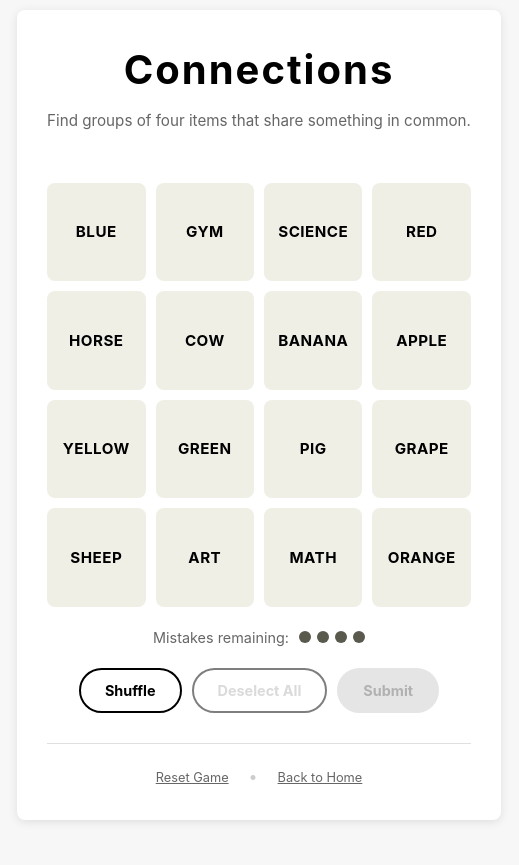
Test case: App › should track mistakes on incorrect answer
The width and height of the screenshot is (519, 865).
// Select 4 words that don't match a category
What coordinates should you click on to do the following:
click the button "Cow"
I would click on:
 (205, 340)
Its box is [156,291,254,390].
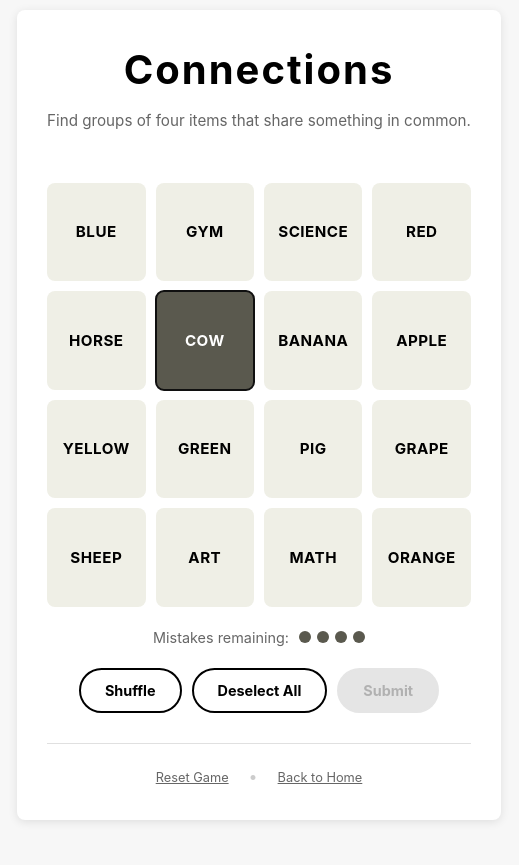
What coordinates should you click on to do the following:
click the button "Red"
I would click on:
 (422, 232)
Its box is [372,183,471,281].
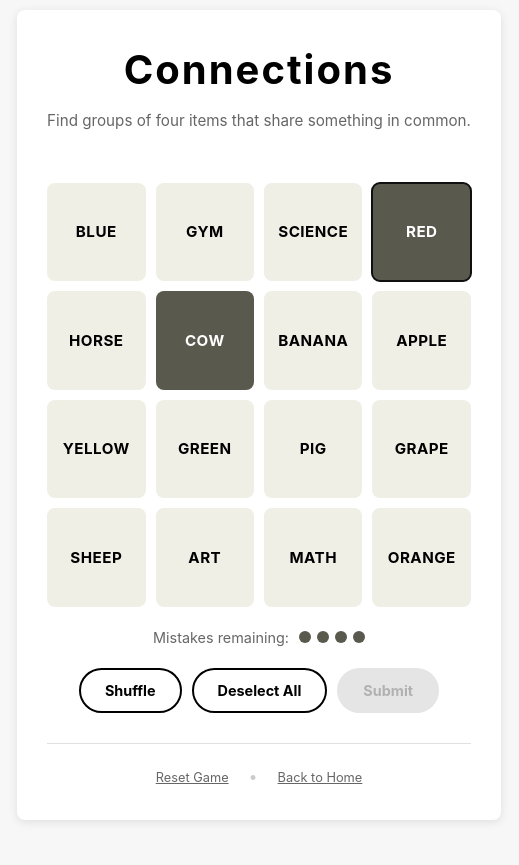
What coordinates should you click on to do the following:
click the button "Apple"
I would click on:
 (422, 340)
Its box is [372,291,471,390].
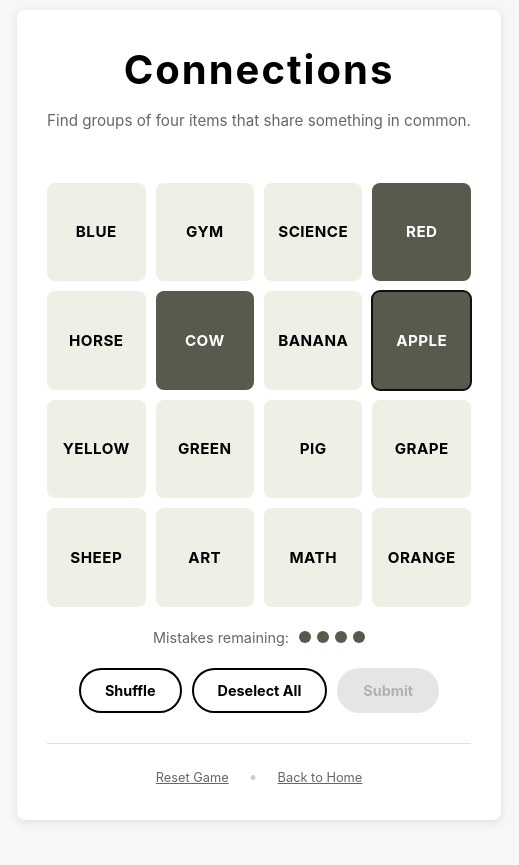
What coordinates should you click on to do the following:
click the button "Math"
I would click on:
 (313, 557)
Its box is [264,508,362,607].
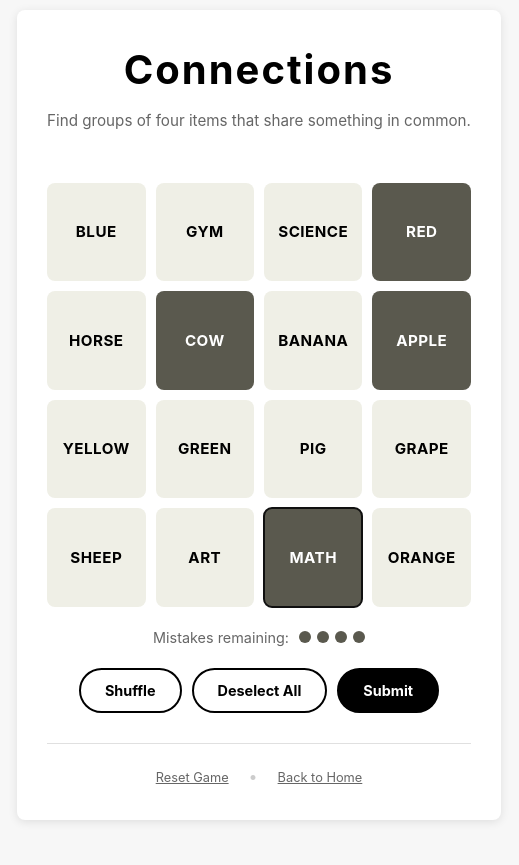
What coordinates should you click on to do the following:
click the button "Submit"
I would click on:
 (388, 691)
Its box is [337,668,439,713].
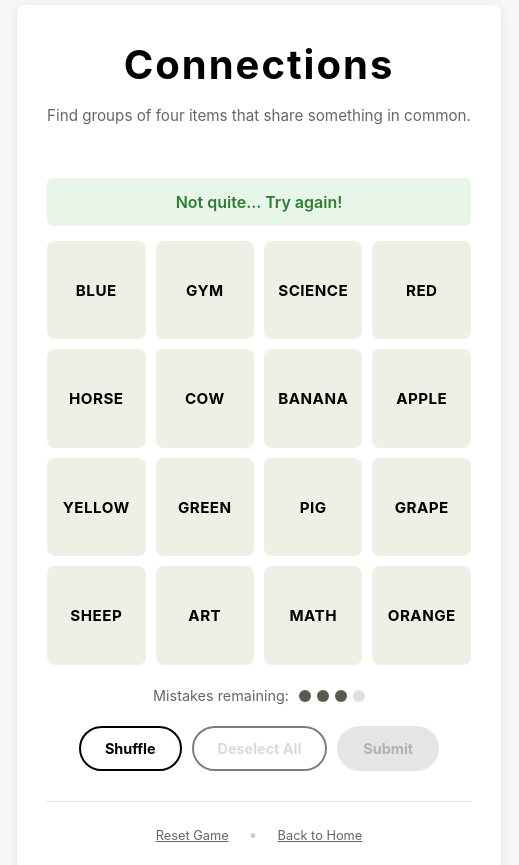
Expected: the number of elements with class "remaining" is 3, [299,690,311,702]; [317,690,329,702]; [335,690,347,702]
Now the text "Not quite... Try again!" is shown, box [47,178,471,226]
